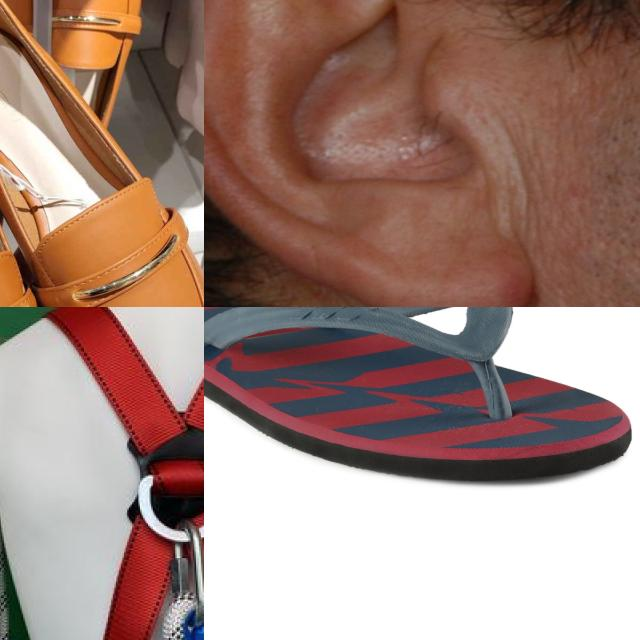Harness: (0, 307, 204, 640)
No_Ear-Protection: (204, 0, 542, 307)
Sandals: (204, 307, 633, 485), (0, 0, 204, 307)
